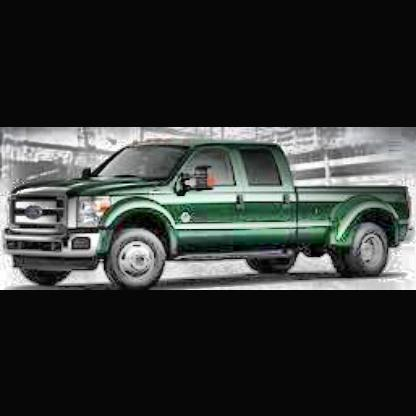Ford F-450 Super Duty Crew Cab 2012: (6, 138, 416, 290)
